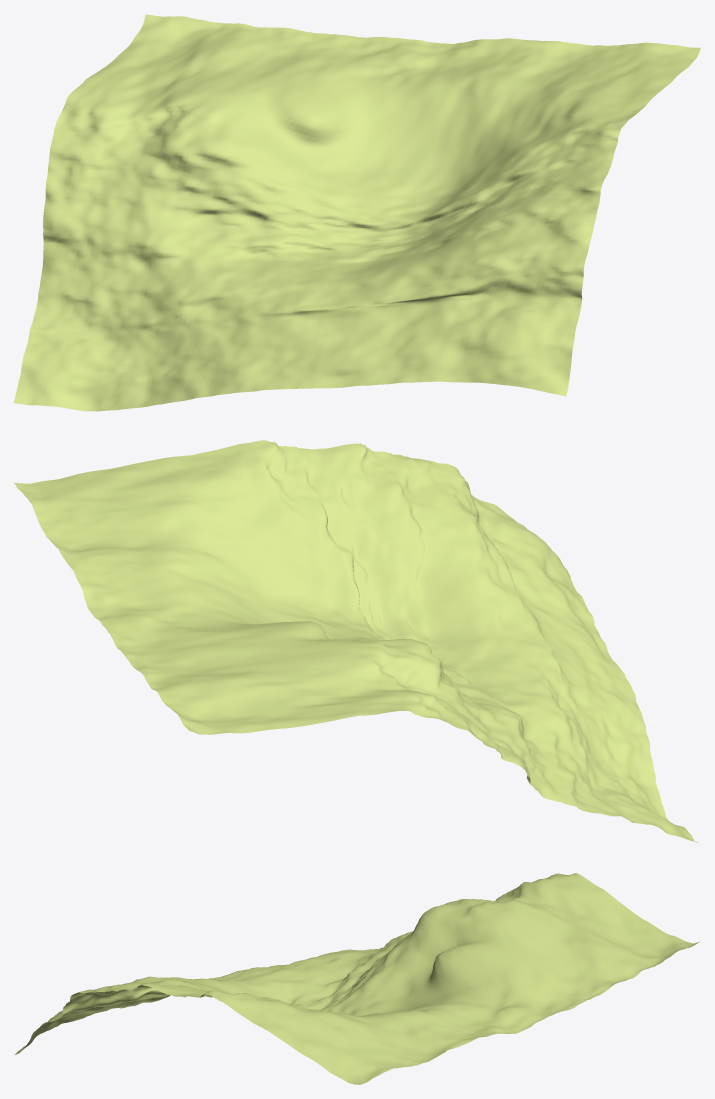
File: Cliff_007.fbx
The picture shows the model from 3 angles, top to bottom: view 1: azimuth 30°, elevation 25°; view 2: azimuth 150°, elevation 25°; view 3: azimuth 270°, elevation 25°; orthographic projection. The views are drawn at different scales.
Parts seen in each view (by area): view 1: Plane.007; view 2: Plane.007; view 3: Plane.007.
Part boxes in pixels (x1,y1,x2,y2): Plane.007: (14, 14, 700, 411); Plane.007: (14, 440, 697, 842); Plane.007: (15, 873, 700, 1084).
Bounding box in the file's own units: 925 × 279 × 900.
